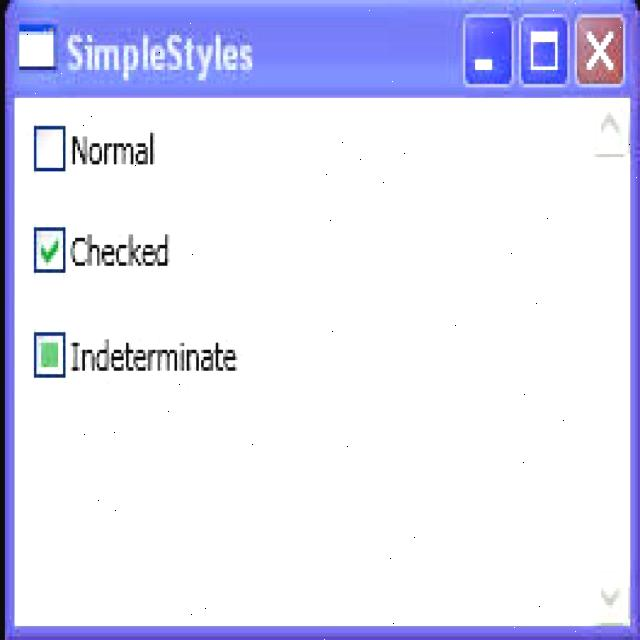button: (461, 9, 516, 89), (575, 11, 628, 90), (523, 11, 568, 88)
checkbox: (32, 330, 68, 382), (32, 123, 67, 174), (31, 226, 68, 274)
menuItem: (22, 318, 244, 384), (22, 108, 164, 184), (23, 217, 176, 282)
upDown: (15, 97, 630, 626)
